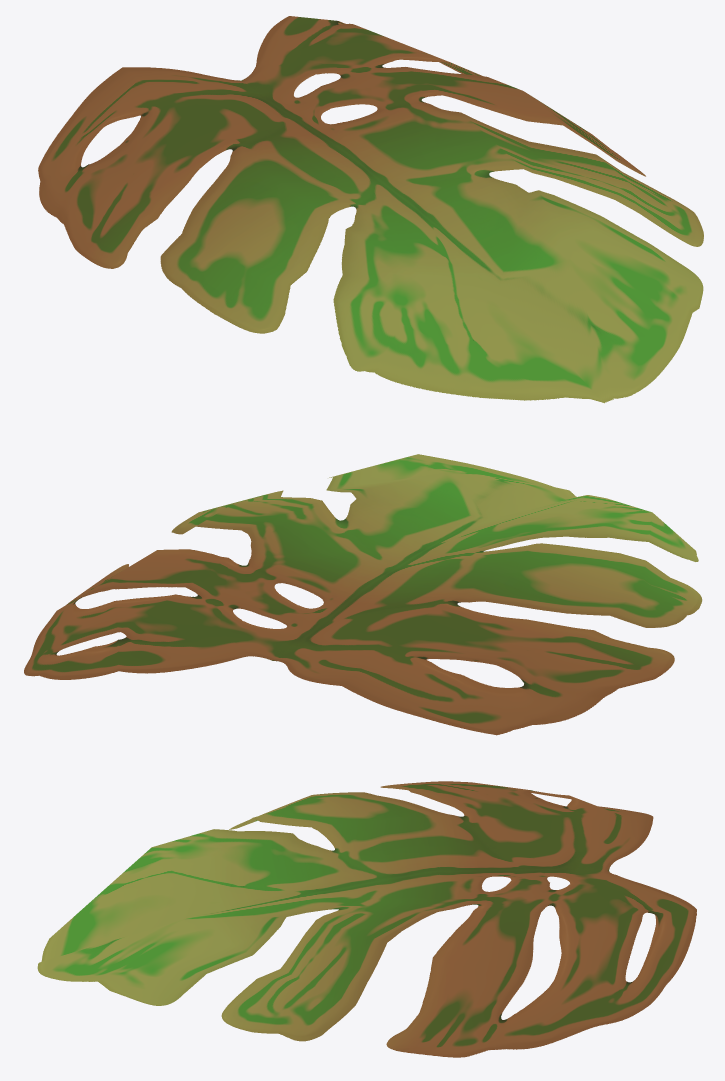
Rendered from SM_Low_Medium_Plant_02_B_Curve.fbx.
The picture shows the model from 3 angles, top to bottom: view 1: azimuth 30°, elevation 25°; view 2: azimuth 150°, elevation 25°; view 3: azimuth 270°, elevation 25°; orthographic projection. The views are drawn at different scales.
Parts seen in each view (by area): view 1: SM_LOW_O_LEAF_B; view 2: SM_LOW_O_LEAF_B; view 3: SM_LOW_O_LEAF_B.
Part boxes in pixels (x1,y1,x2,y2): SM_LOW_O_LEAF_B: (38,16,703,403); SM_LOW_O_LEAF_B: (24,454,702,735); SM_LOW_O_LEAF_B: (37,781,696,1057).
Size of the model in its own units: 54.03 by 10.57 by 65.69.
Materials: 1 (1 with a texture image).
